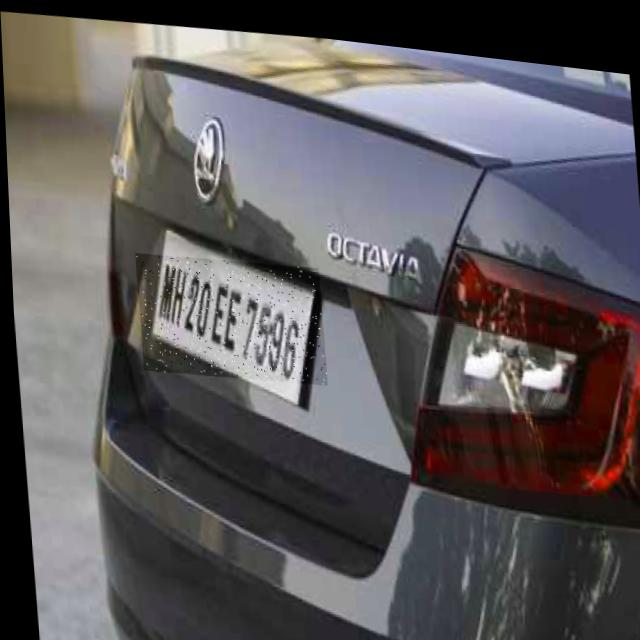license_plate: (132, 243, 324, 384)
